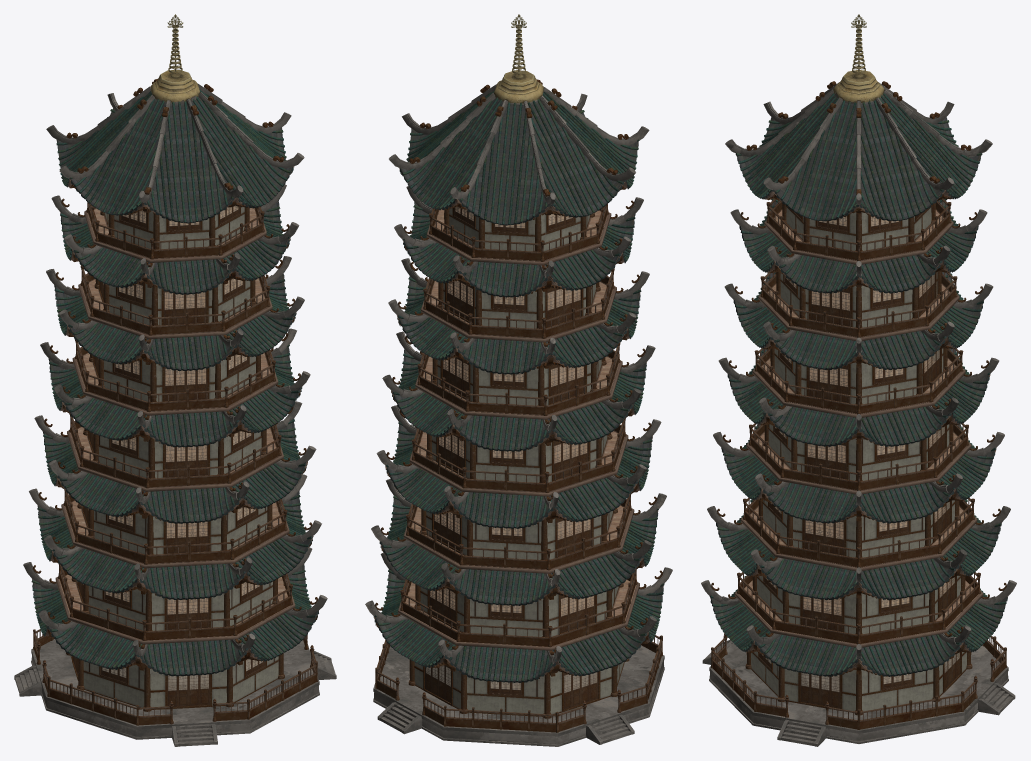
The picture shows the model from 3 angles, left to right: view 1: azimuth 30°, elevation 25°; view 2: azimuth 150°, elevation 25°; view 3: azimuth 270°, elevation 25°; orthographic projection.
Parts seen in each view (by area): view 1: normal16; view 2: normal16; view 3: normal16.
Part boxes in pixels (x1,y1,x2,y2): normal16: (14, 14, 336, 746); normal16: (365, 14, 672, 746); normal16: (701, 14, 1016, 746).
Size of the model in its own units: 17.37 by 40.47 by 17.37.
13 materials, 13 textured.
